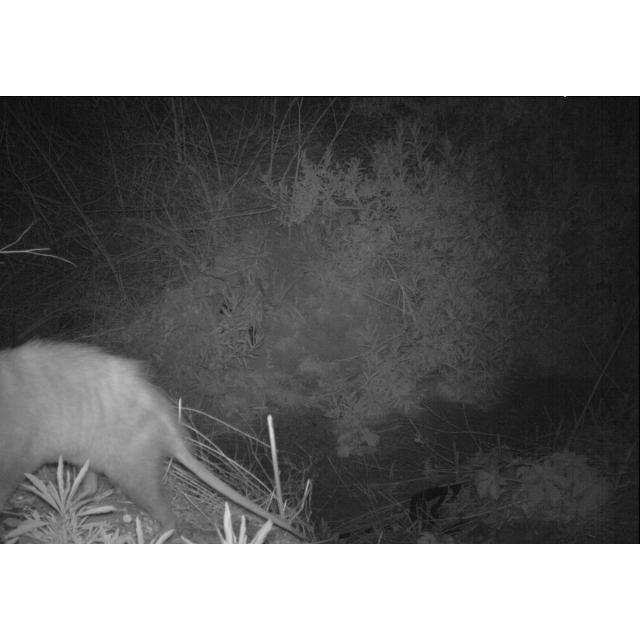animals: (0, 332, 314, 544)
